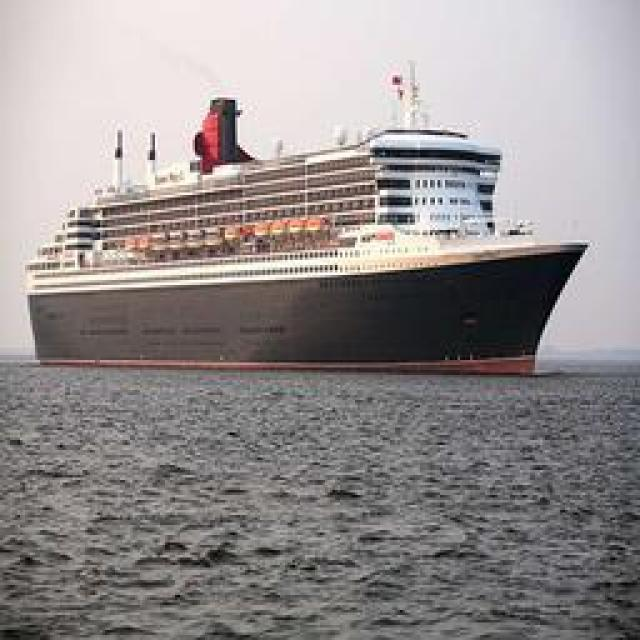CIV_Ship: (21, 104, 594, 366)
